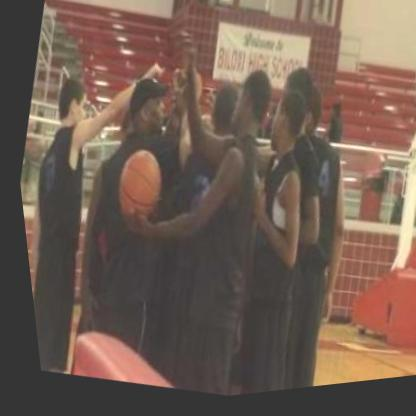basketball: (97, 137, 175, 234)
